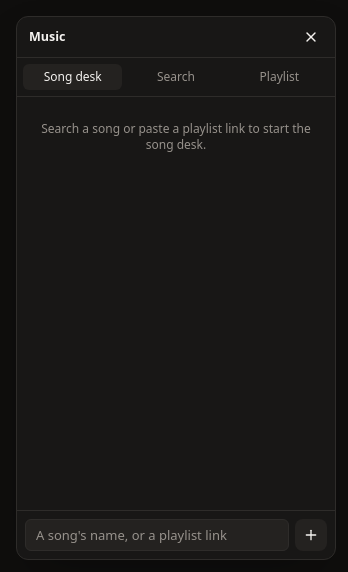
Test: choosing a track › starts the desk, which plays the track's address at the rate its file has
Click the tab "Search" at (176,77), box [126,64,226,90]
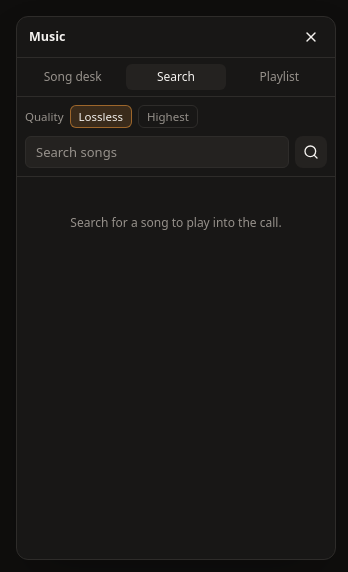
Type "sunny" into the field labelled "Search songs" at (157,152), box [25,136,289,168]
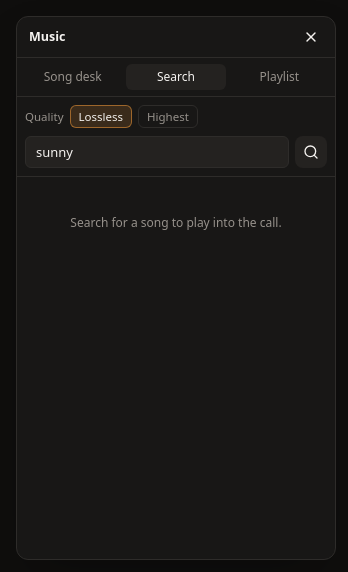
Click the button named "Search" at (311,152), box [295,136,327,168]
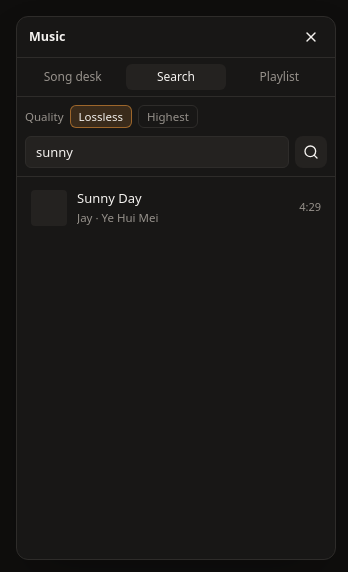
Click the button with aria-label "Add Sunny Day" at (49,208), box [23,183,329,232]
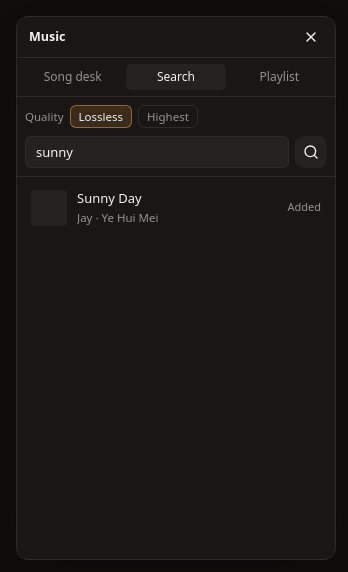
Click the tab "Song desk" at (73,77), box [23,64,122,90]
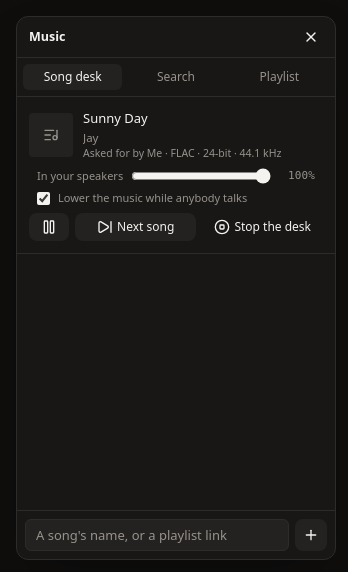
Now the text "Sunny Day" is shown, box [83,109,148,127]
Now the text "Asked for by Me · FLAC · 24-bit · 44.1 kHz" is shown, box [83,146,281,160]
